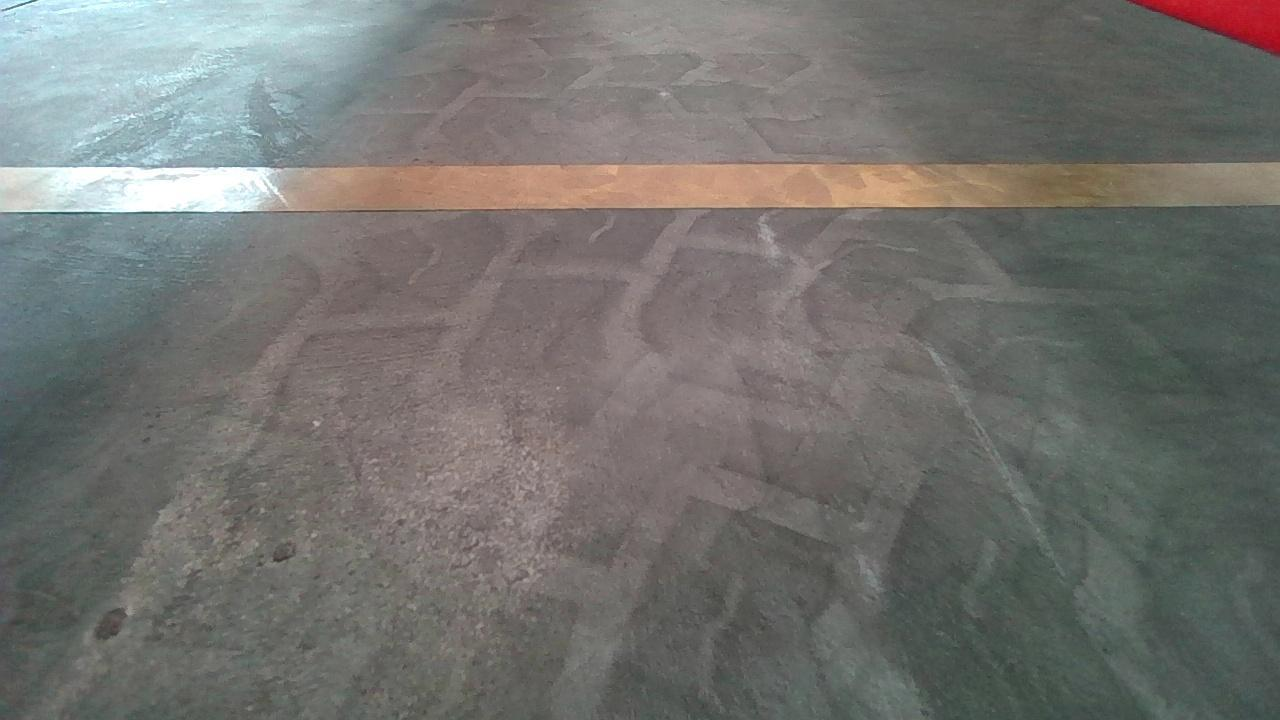yellow_line: (5, 154, 1268, 214)
